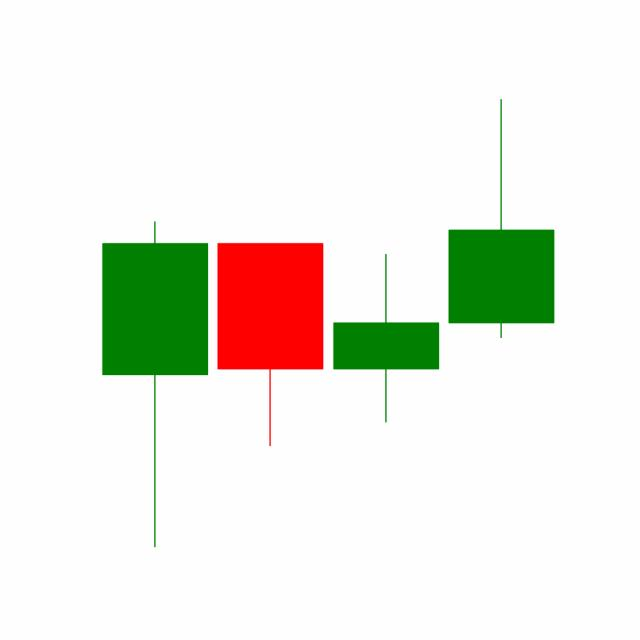Spinning Top: (328, 252, 444, 425)
